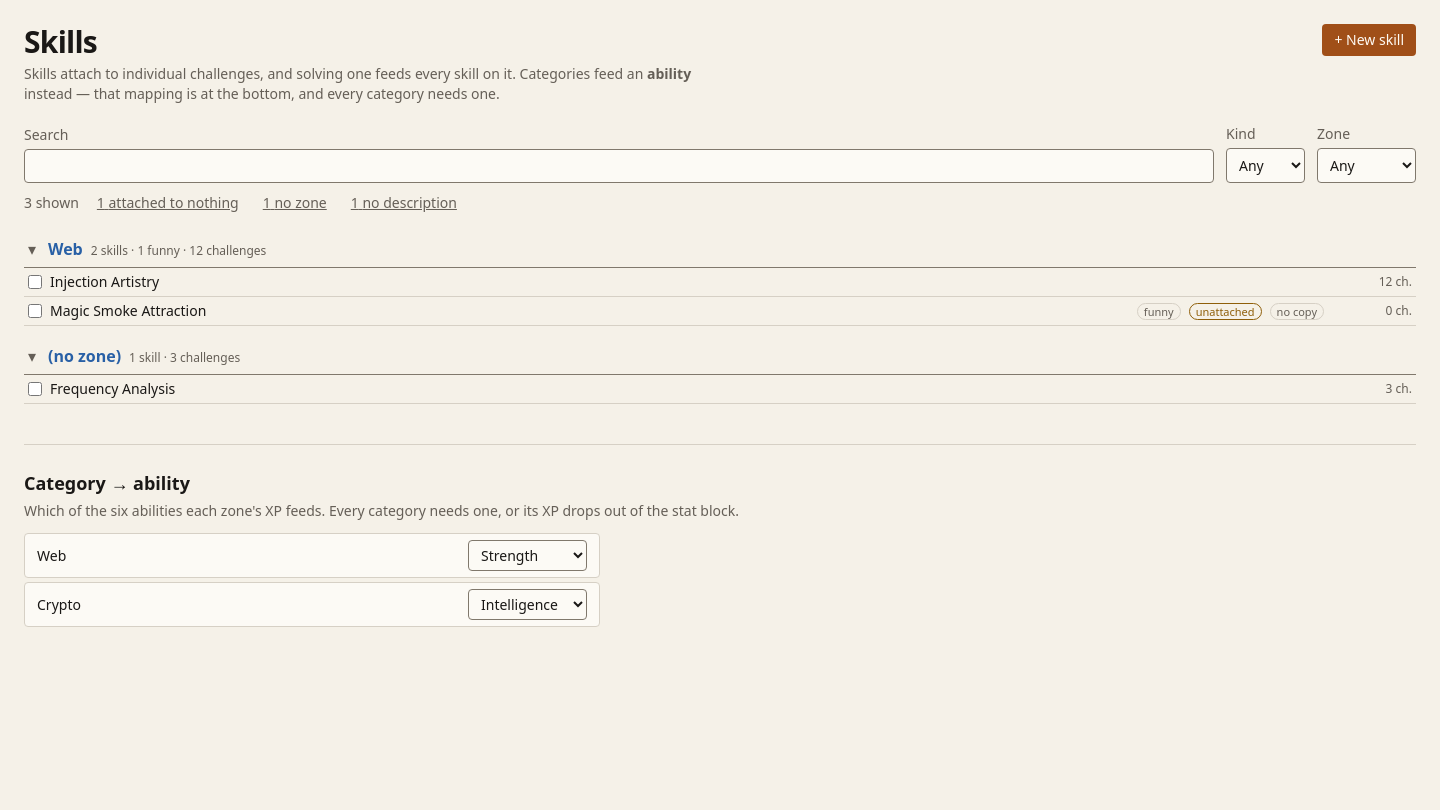
Test: AdminSkillsPage › runs a bulk kind change over the selection and reports the result
Click the checkbox named "Select Injection Artistry": [35, 282] box [28,275,42,289]
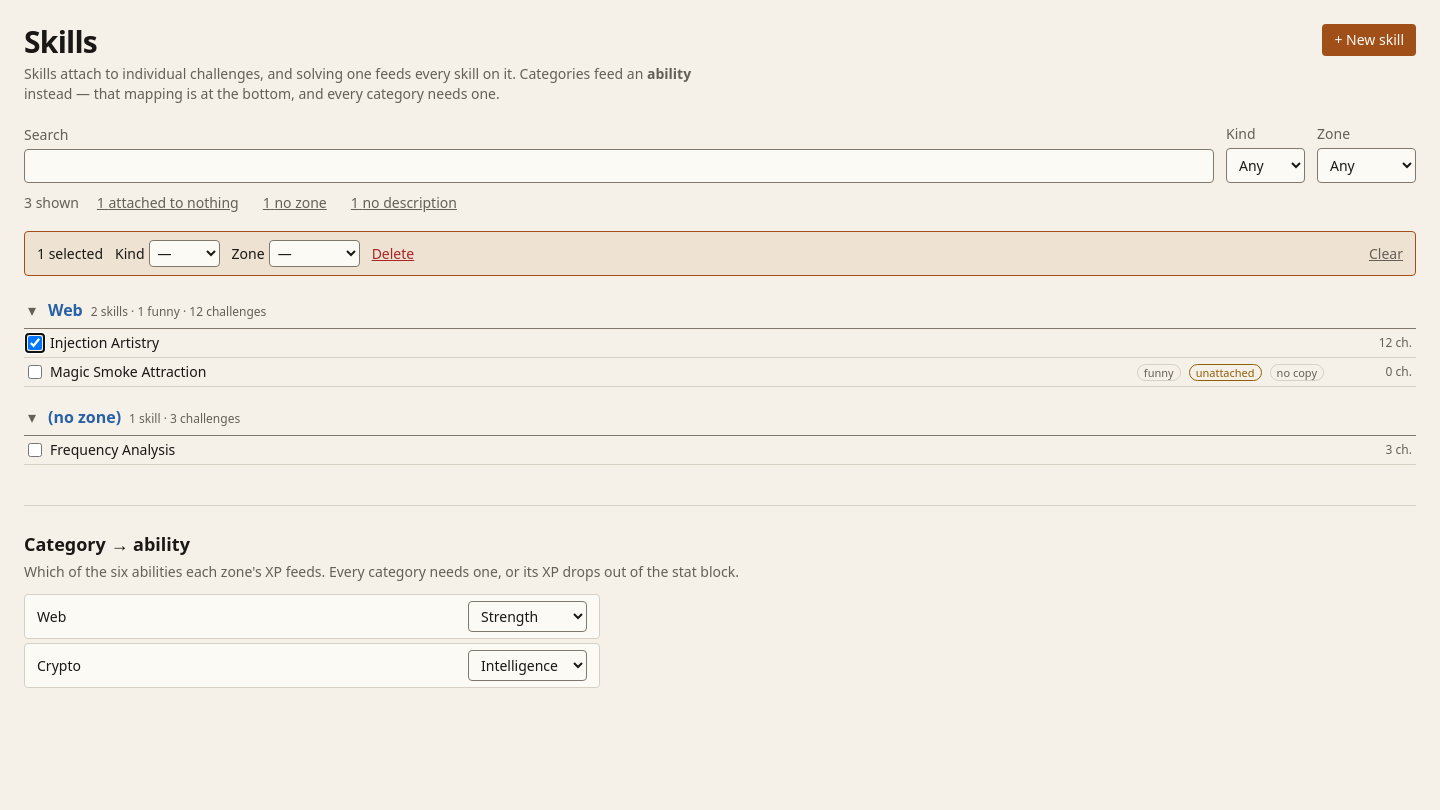
Click the checkbox named "Select Magic Smoke Attraction": [35, 372] box [28,365,42,379]
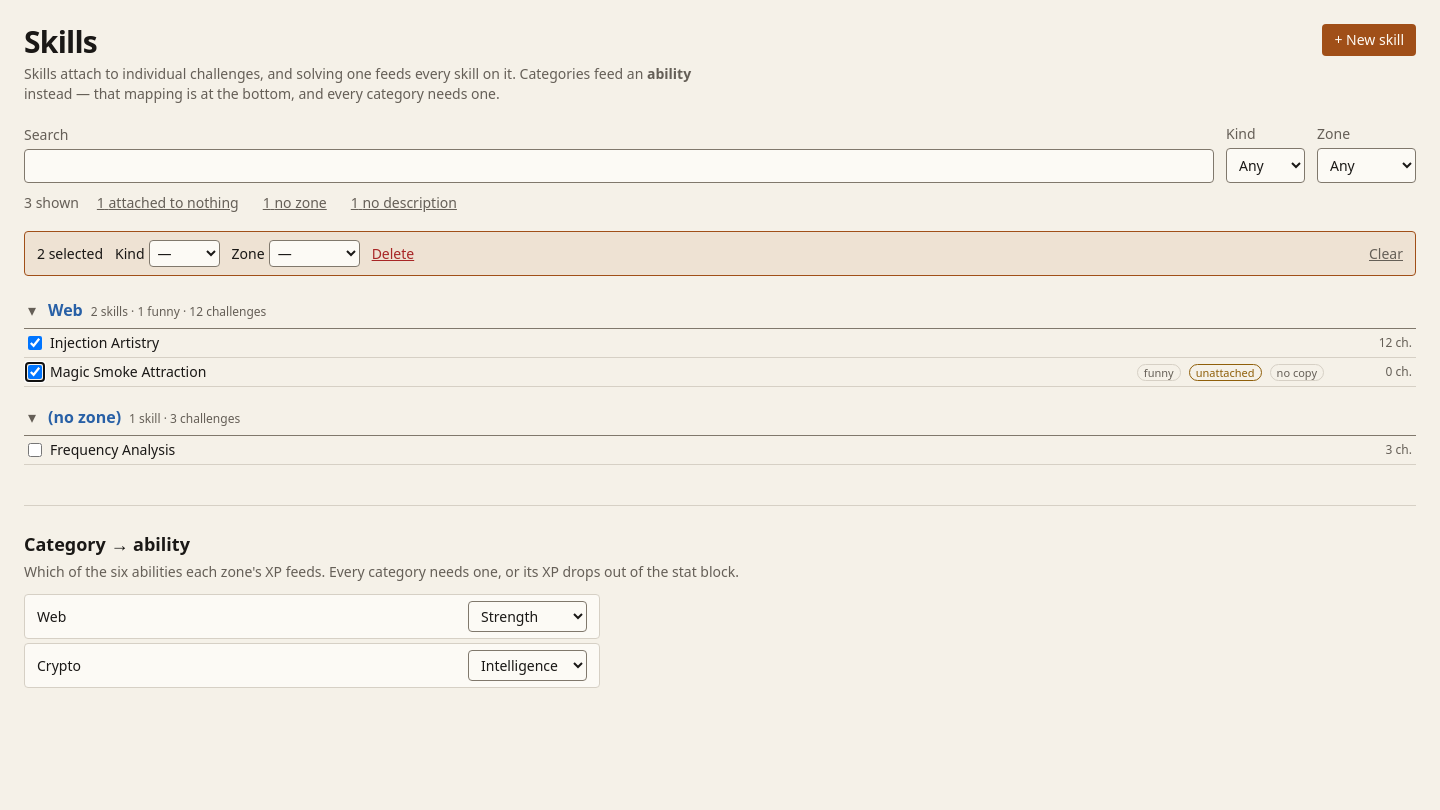
Result: the text "2 selected" is shown at [37,244,103,264]
Select "useful" in the dropdown named "Set kind for selected": [184, 254] box [149,240,220,267]
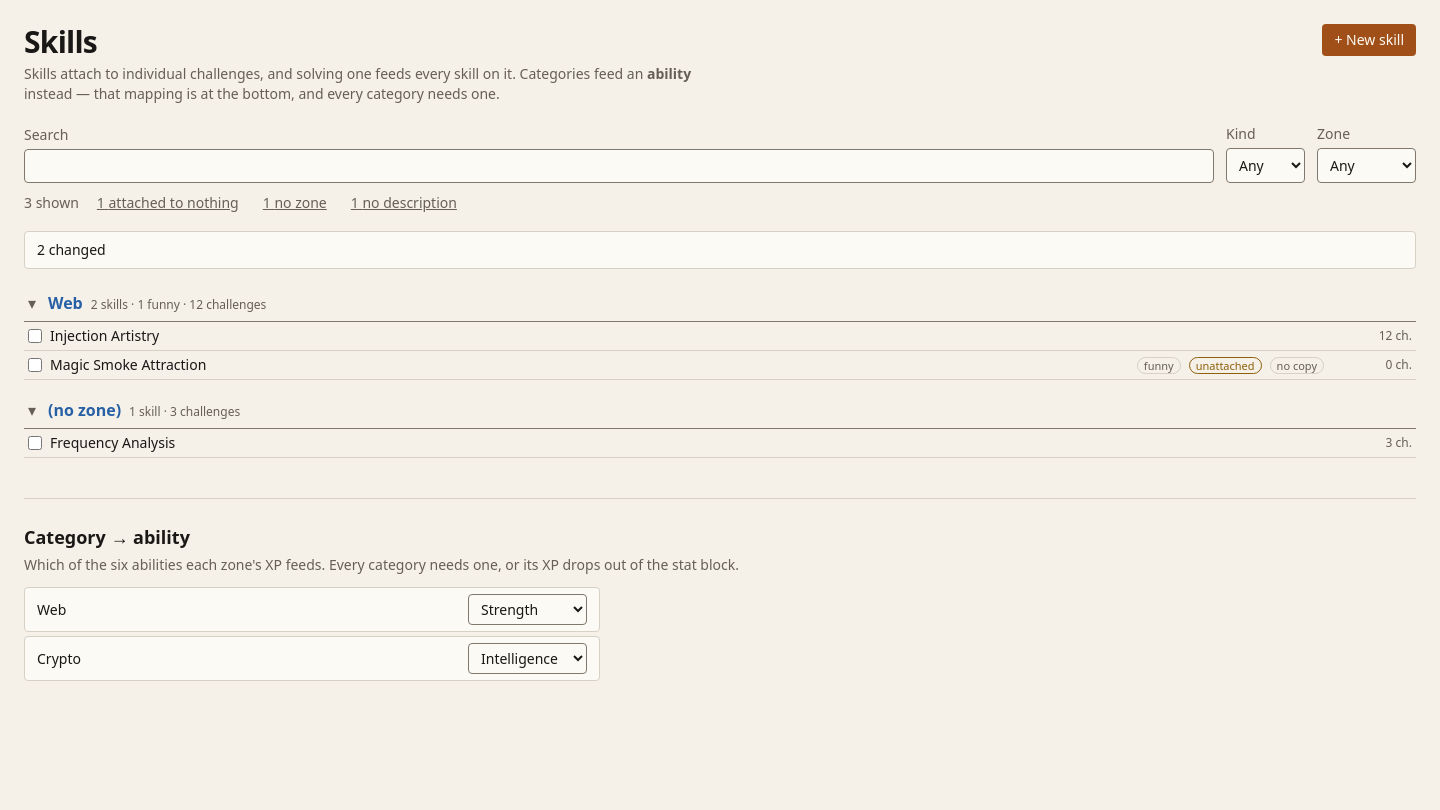
Result: the text "2 changed" is shown at [24,231,1416,269]
